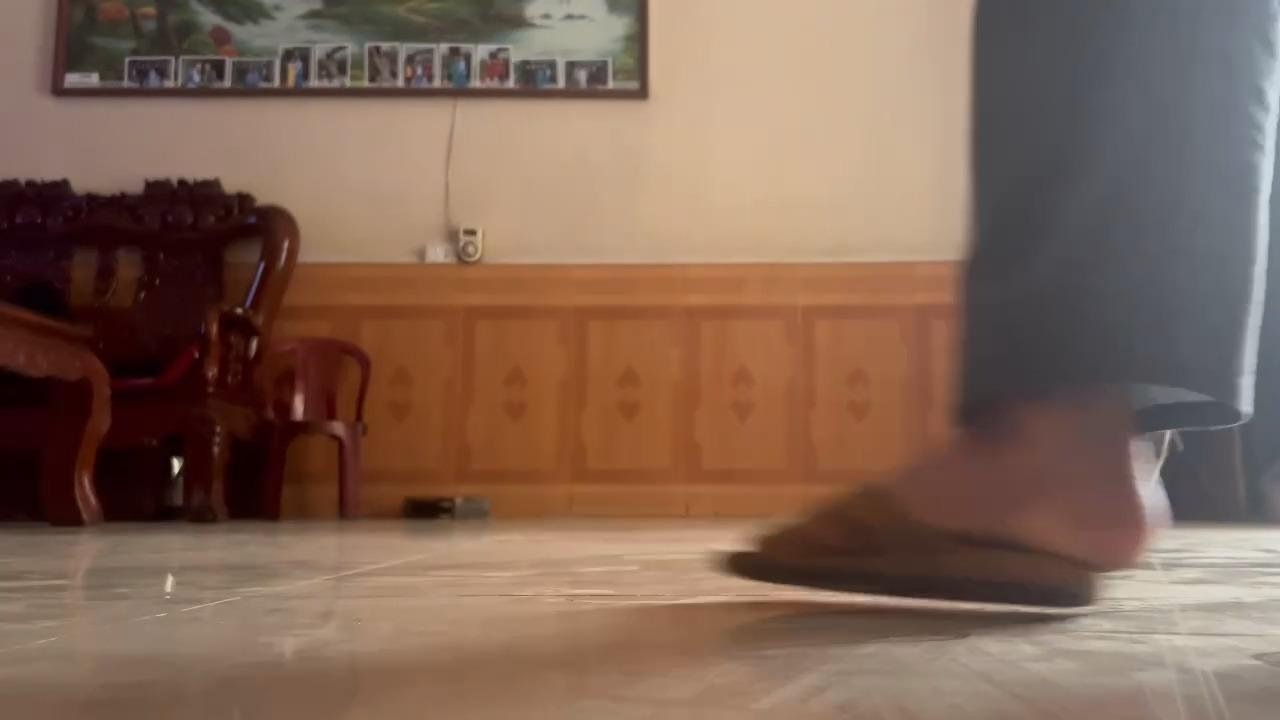no-boot: (717, 425, 1181, 627)
